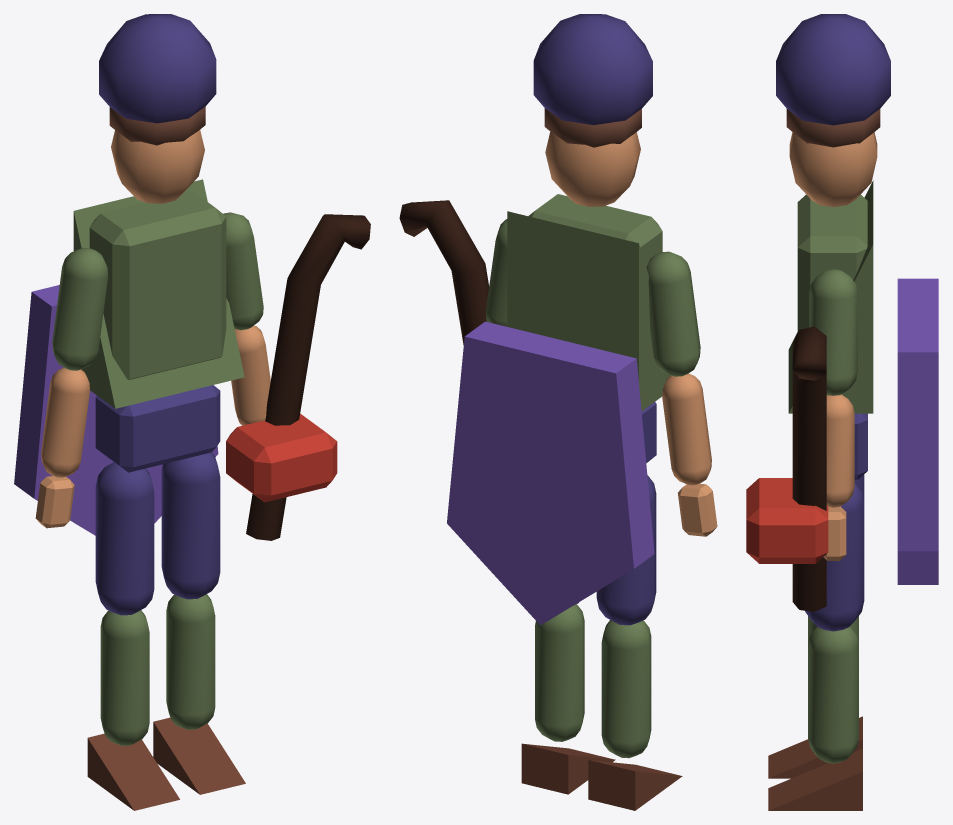
The model's file is adventurer.rustic.glb.
3 renders of one model, left to right at view 1: azimuth 30°, elevation 25°; view 2: azimuth 150°, elevation 25°; view 3: azimuth 270°, elevation 25°, orthographic.
Visible parts, largest first — view 1: torso, accessory.head, accessory.main-hand, accessory.back, thigh.left, pelvis, thigh.right, accessory.waist, tunic, shin.left, shin.right, upper-arm.left (+8 smaller); view 2: accessory.back, tunic, accessory.head, shin.left, shin.right, upper-arm.left, accessory.main-hand, head, forearm.left, torso, thigh.left, foot.left (+5 smaller); view 3: accessory.back, accessory.head, accessory.main-hand, shin.right, accessory.waist, torso, head, upper-arm.right, thigh.right, foot.right, tunic, forearm.right (+4 smaller).
Boxes of the visible parts, x1,y1,x2,y2 form: torso: (89, 191, 226, 379); accessory.head: (99, 14, 216, 123); accessory.main-hand: (246, 214, 370, 540); accessory.back: (14, 285, 218, 535); thigh.left: (95, 462, 154, 615); pelvis: (95, 385, 220, 472); thigh.right: (161, 452, 220, 599); accessory.waist: (226, 413, 337, 502); tunic: (73, 179, 244, 408); shin.left: (100, 610, 149, 745); shin.right: (166, 594, 215, 729); upper-arm.left: (52, 247, 108, 370); accessory.back: (447, 321, 654, 625); tunic: (507, 211, 670, 410); accessory.head: (533, 14, 652, 125); shin.left: (601, 620, 651, 758); shin.right: (535, 604, 584, 741); upper-arm.left: (646, 251, 700, 376); accessory.main-hand: (399, 200, 488, 344); head: (545, 132, 640, 206); forearm.left: (662, 373, 711, 485); torso: (528, 194, 662, 266); thigh.left: (596, 475, 656, 625); foot.left: (588, 760, 682, 810); accessory.back: (897, 278, 938, 584); accessory.head: (776, 14, 890, 125); accessory.main-hand: (792, 326, 826, 611); shin.right: (808, 627, 858, 763); accessory.waist: (746, 478, 828, 563); torso: (797, 194, 867, 332); head: (789, 132, 877, 206); upper-arm.right: (809, 269, 857, 395); thigh.right: (805, 483, 864, 631); foot.right: (768, 749, 862, 810); tunic: (788, 180, 873, 413); forearm.right: (826, 394, 854, 507).
Size of the model in its own units: 1.44 by 3.29 by 0.75.
